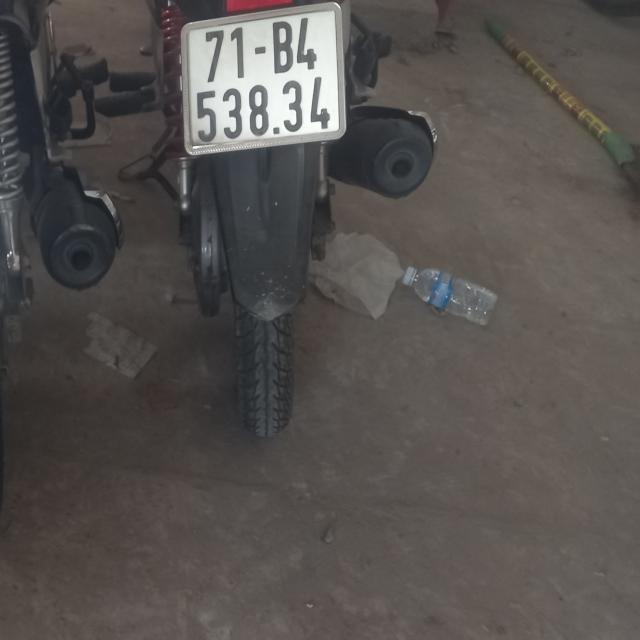1: (230, 26, 245, 77)
3: (222, 88, 244, 139), (280, 82, 302, 132)
4: (308, 76, 330, 129), (297, 18, 316, 71)
5: (197, 90, 216, 142)
7: (204, 28, 224, 82)
8: (248, 85, 269, 138)
B: (272, 21, 294, 73)
